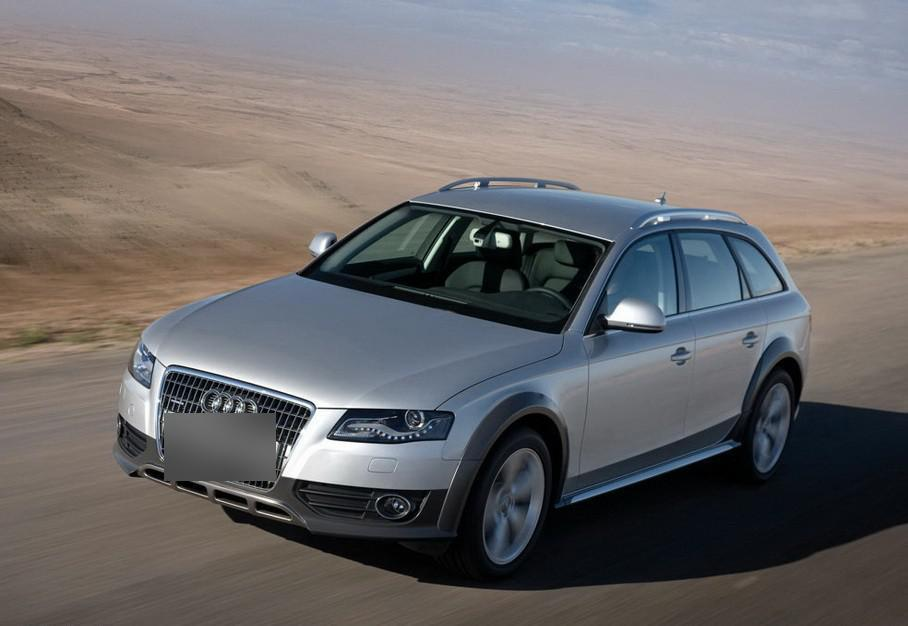Wagon: (110, 175, 814, 580)
